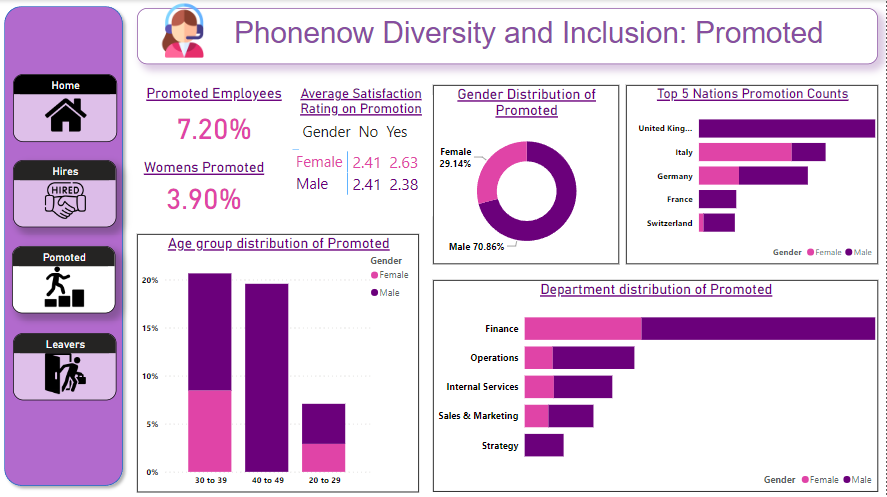

The dashboard page shown, as its layout file describes it:
{"tool":"powerbi","page":{"name":"Page 3","canvas":[1280,720],"ordinal":2},"visuals":[{"type":"textbox","box":[200.2,11.5,1067,80.6],"z":0},{"type":"shape","box":[0,0,188.6,708.5],"z":1000},{"type":"image","title":"Home","box":[21.6,106.6,149.8,97.9],"z":2000},{"type":"image","title":"Hires","box":[21.6,230.4,149,97],"z":3000},{"type":"image","title":"Pomoted","box":[20.2,354.2,149,97],"z":4000},{"type":"image","title":"Leavers","box":[21.6,479.5,149,97],"z":5000},{"type":"card","title":"Promoted Employees","fields":{"Values":["Pharma Group AG.% employees promoted(FY20)"]},"box":[200.2,122.4,221.8,95],"z":6000},{"type":"barChart","title":"Department distribution of  Promoted","fields":{"Category":["Pharma Group AG.Department @01.07.2020"],"Series":["Pharma Group AG.Gender"],"Y":["Pharma Group AG.% employees promoted(FY20)"]},"box":[626.4,403.2,640.8,305.3],"z":7000},{"type":"columnChart","title":"Age group distribution  of  Promoted","fields":{"Category":["Pharma Group AG.Age group"],"Y":["Pharma Group AG.% employees promoted(FY20)"],"Series":["Pharma Group AG.Gender"]},"box":[200.2,337,406.1,371.5],"z":8000},{"type":"barChart","title":"Top 5 Nations Promotion Counts","fields":{"Category":["Pharma Group AG.Nationality 1"],"Series":["Pharma Group AG.Gender"],"Y":["Pharma Group AG.% employees promoted(FY20)"]},"box":[904.3,122.4,362.9,257.8],"z":9000},{"type":"card","title":"Womens Promoted","fields":{"Values":["Pharma Group AG.% of women promoted"]},"box":[200.2,229,193,82.1],"z":10000},{"type":"donutChart","title":"Gender Distribution of Promoted","fields":{"Y":["Pharma Group AG.% employees promoted(FY20)"],"Category":["Pharma Group AG.Gender"]},"box":[626.4,122.4,267.8,257.8],"z":11000},{"type":"pivotTable","title":"Average Satisfaction Rating on Promotion","fields":{"Rows":["Pharma Group AG.Gender"],"Values":["Avg(Pharma Group AG.FY20 Performance Rating)"],"Columns":["Pharma Group AG.Promotion in FY20?"]},"box":[419,122.4,207.4,188.6],"z":12000},{"type":"image","box":[200.2,0,132.5,87.8],"z":13000},{"type":"textbox","box":[433.4,169.9,182.9,47.5],"z":13001}]}

Visuals, with their boxes in screenshot pixels (x1, y1, x2, y2), scaled from the page's 1280x720 canvas onto the 887x497 screenshot:
textbox: bbox=[139, 8, 878, 64]
shape: bbox=[0, 0, 131, 489]
"Home" image: bbox=[15, 74, 119, 141]
"Hires" image: bbox=[15, 159, 118, 226]
"Pomoted" image: bbox=[14, 244, 117, 311]
"Leavers" image: bbox=[15, 331, 118, 398]
"Promoted Employees" card: bbox=[139, 84, 292, 150]
"Department distribution of  Promoted" barChart: bbox=[434, 278, 878, 489]
"Age group distribution  of  Promoted" columnChart: bbox=[139, 233, 420, 489]
"Top 5 Nations Promotion Counts" barChart: bbox=[627, 84, 878, 262]
"Womens Promoted" card: bbox=[139, 158, 272, 215]
"Gender Distribution of Promoted" donutChart: bbox=[434, 84, 620, 262]
"Average Satisfaction Rating on Promotion" pivotTable: bbox=[290, 84, 434, 215]
image: bbox=[139, 0, 231, 61]
textbox: bbox=[300, 117, 427, 150]
